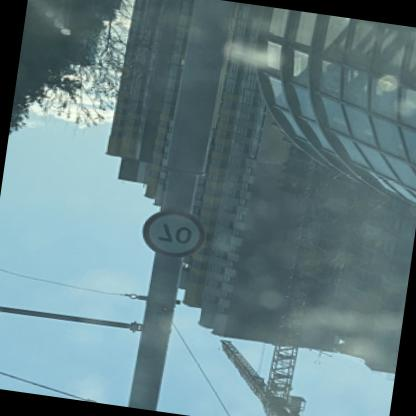speedlimit: (138, 205, 206, 260)
